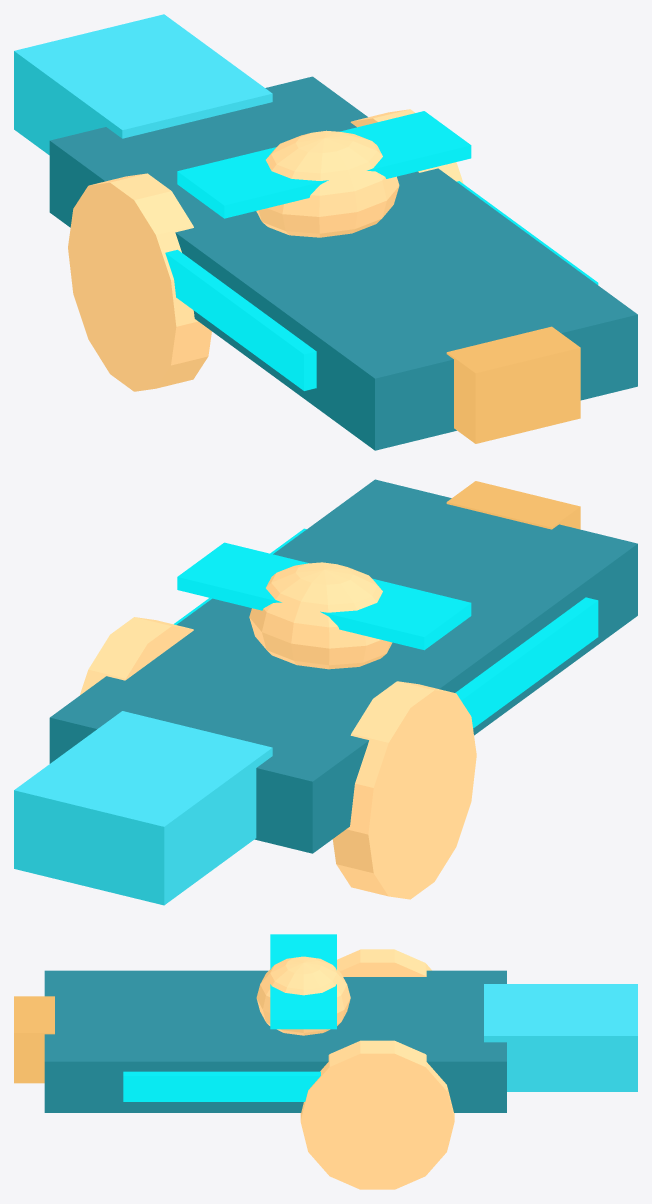
File: pulse.glb
The picture shows the model from 3 angles, top to bottom: view 1: azimuth 30°, elevation 25°; view 2: azimuth 150°, elevation 25°; view 3: azimuth 270°, elevation 25°; orthographic projection. The views are drawn at different scales.
Visible parts, largest first — view 1: chassis, body_nose, wheel_l, emitter, glow_strip_roof, canopy_wheel, glow_strip_side, wheel_r; view 2: chassis, body_nose, wheel_l, glow_strip_roof, canopy_wheel, glow_strip_side, wheel_r, emitter; view 3: chassis, wheel_r, body_nose, glow_strip_side.001, glow_strip_roof, canopy_wheel, emitter, wheel_l.
Part boxes in pixels (x1,y1,x2,y2): chassis: [49, 76, 637, 450]; body_nose: [14, 14, 272, 155]; wheel_l: [68, 173, 211, 391]; emitter: [446, 326, 580, 443]; glow_strip_roof: [177, 111, 471, 218]; canopy_wheel: [256, 130, 399, 237]; glow_strip_side: [165, 249, 316, 390]; wheel_r: [350, 109, 463, 183]; chassis: [49, 479, 637, 853]; body_nose: [14, 711, 272, 905]; wheel_l: [332, 681, 476, 899]; glow_strip_roof: [177, 542, 471, 650]; canopy_wheel: [249, 562, 392, 669]; glow_strip_side: [455, 597, 598, 728]; wheel_r: [79, 617, 193, 695]; emitter: [446, 481, 580, 529]; chassis: [44, 970, 506, 1112]; wheel_r: [300, 1040, 454, 1189]; body_nose: [484, 984, 637, 1091]; glow_strip_side.001: [123, 1071, 320, 1101]; glow_strip_roof: [270, 934, 336, 1029]; canopy_wheel: [256, 956, 350, 1035]; emitter: [14, 996, 54, 1083]; wheel_l: [337, 949, 431, 976].
Size of the model in its own units: 0.48 by 0.3758 by 1.22.
